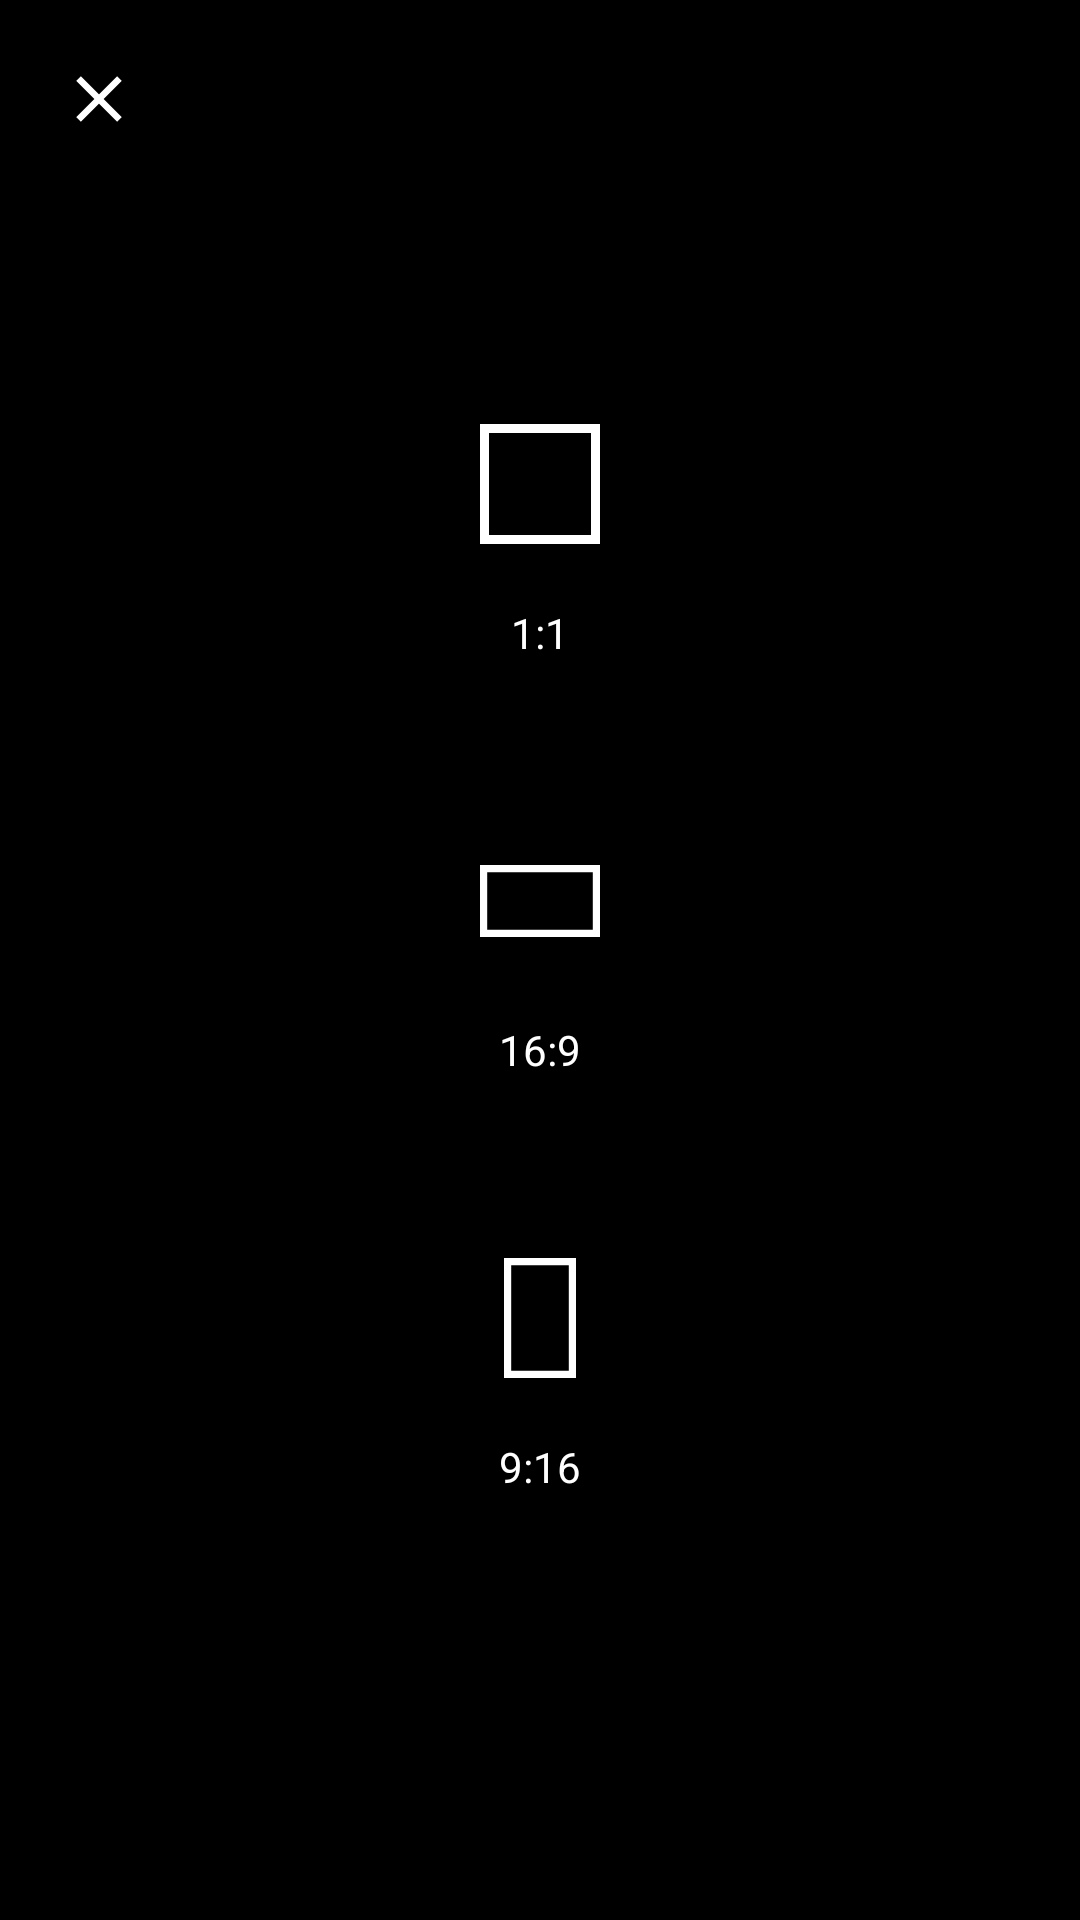

Icon bounding boxes for this 1080x1920 phone screenshot, format (x1, y1, x2, y2):
close: (76, 76, 122, 122)
landscape: (480, 865, 600, 937)
portrait: (504, 1258, 576, 1378)
square: (480, 424, 600, 544)
